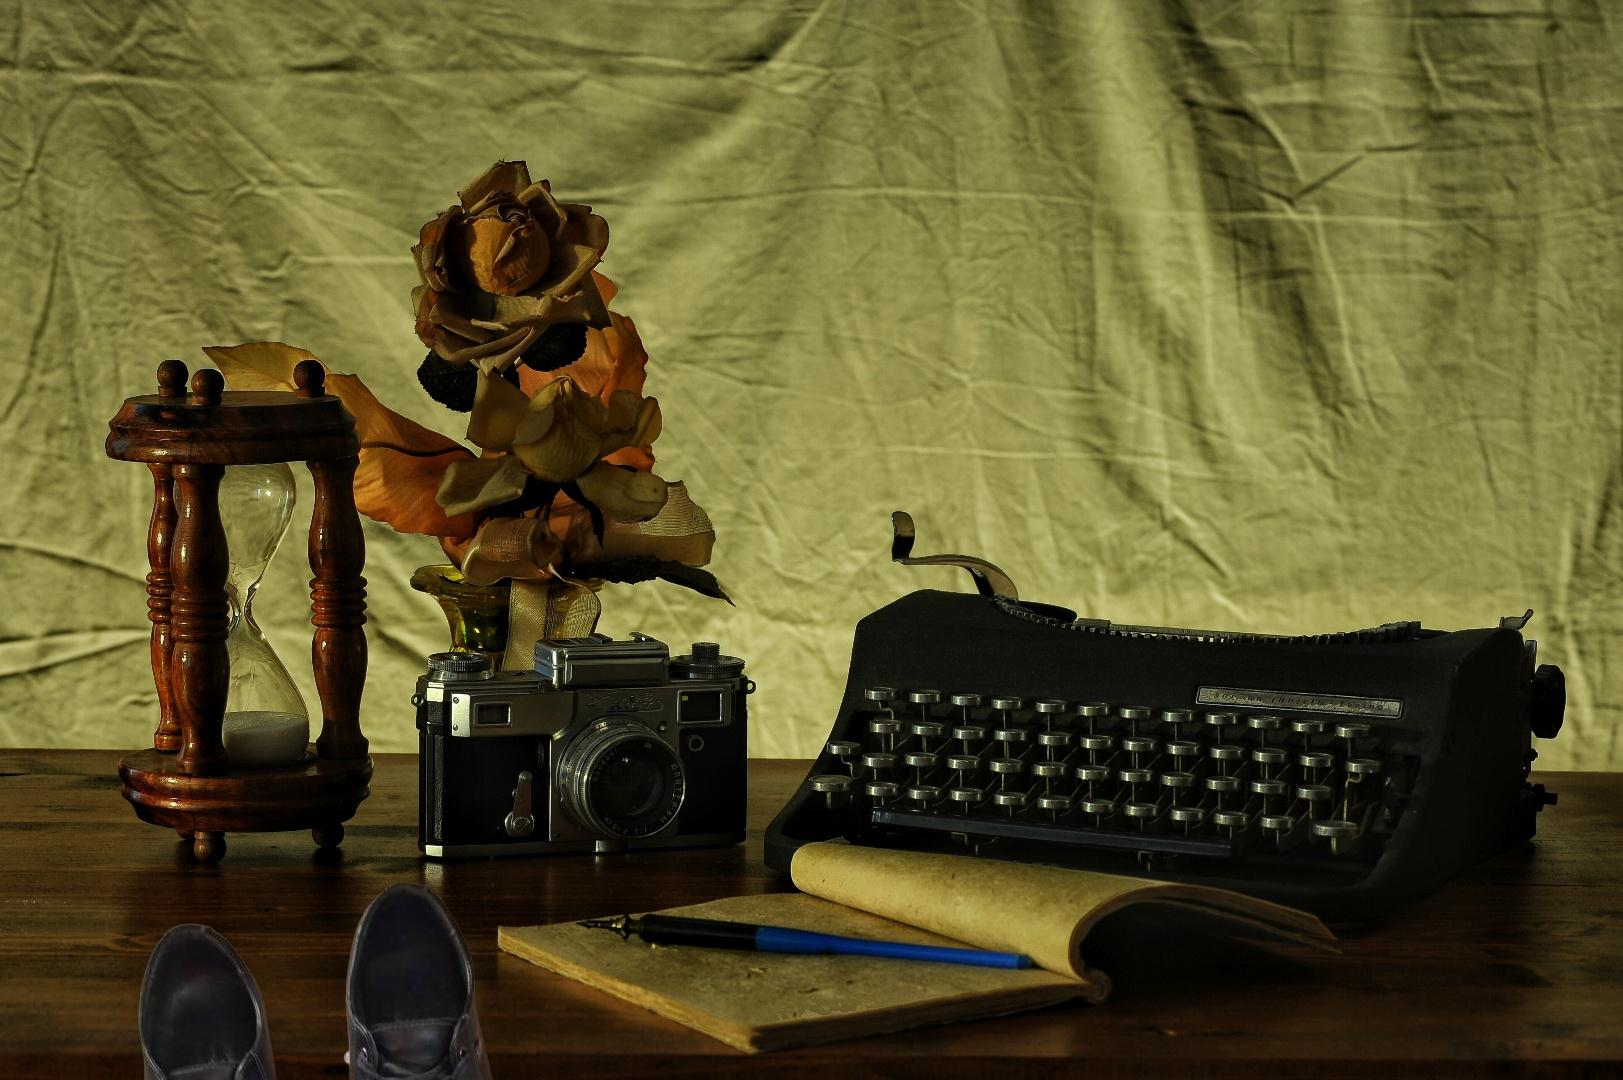shoes: (135, 877, 535, 1080)
